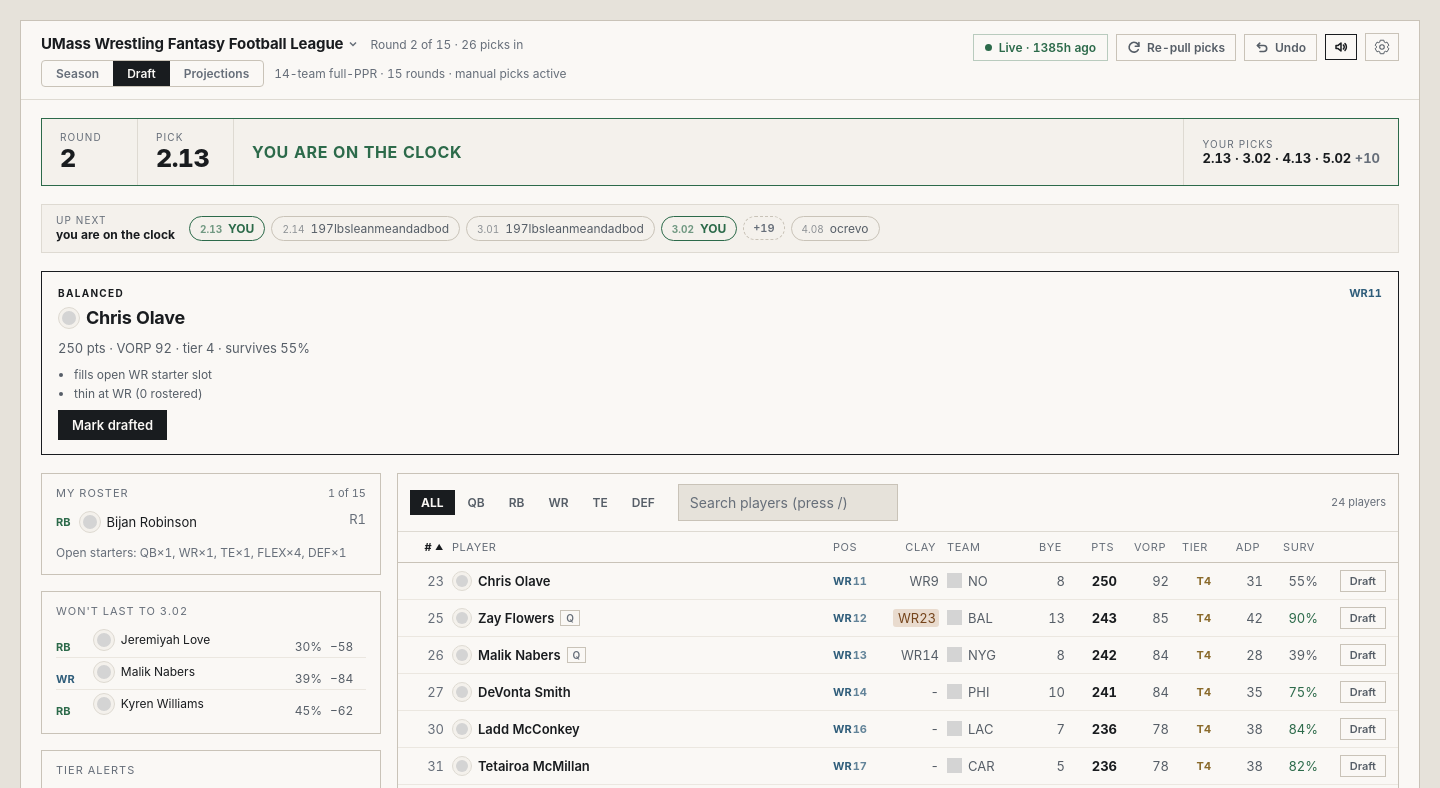
Test: App live workflow › loads the season view when the Season tab is opened
The image size is (1440, 788).
Expected: the heading "UMass Wrestling Fantasy Football League" is shown, x1=41 y1=33 x2=358 y2=54
What coordinates should you click on to do the following:
click the button "Season"
I would click on:
 (78, 74)
Its box is x1=42 y1=61 x2=113 y2=86.
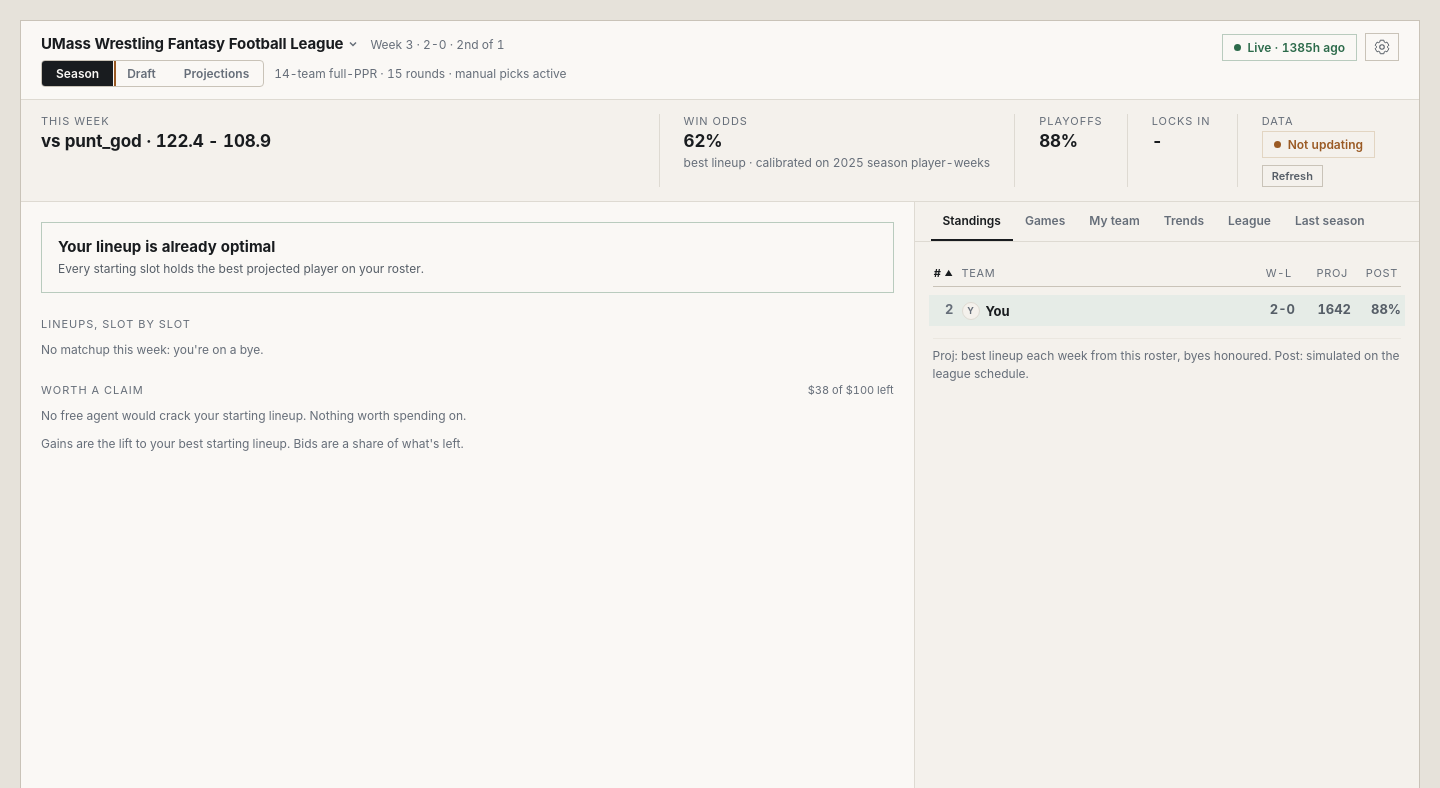
Result: the text "vs punt_god · 122.4 - 108.9" is shown at x1=41 y1=131 x2=271 y2=151
Result: the text "88%" is shown 2 times at x1=1039 y1=131 x2=1078 y2=151; x1=1371 y1=301 x2=1401 y2=317
